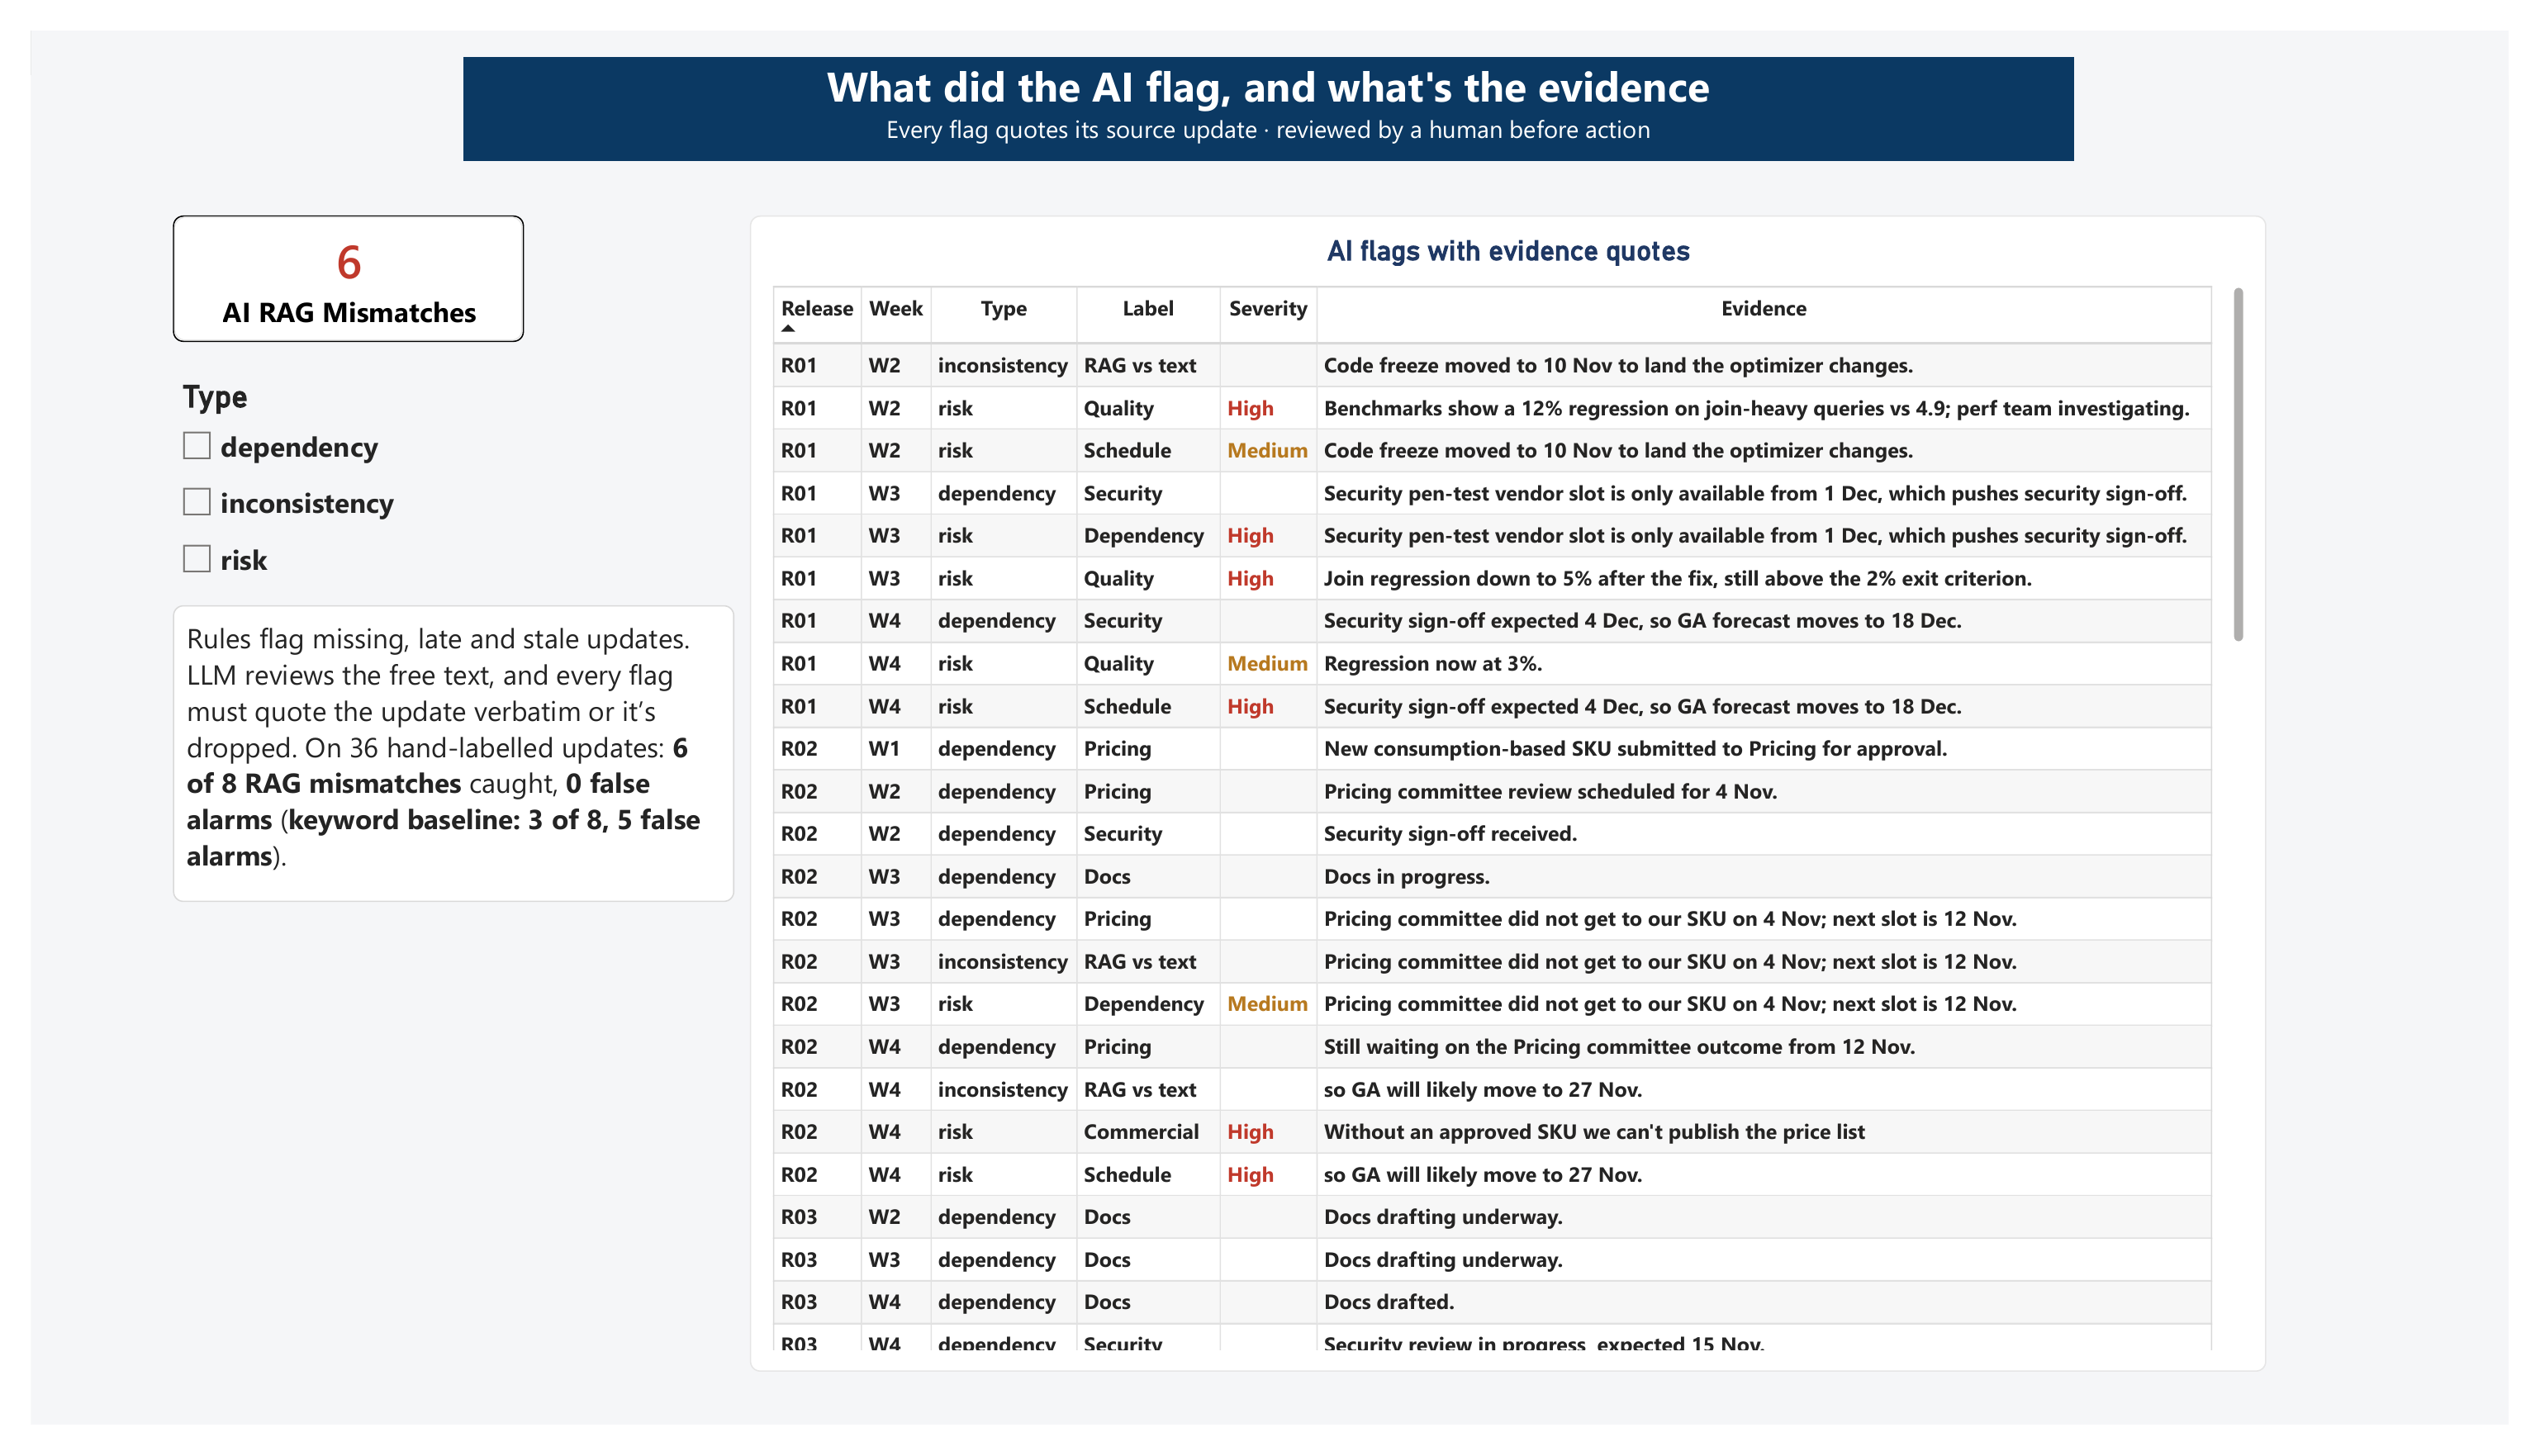

What the dashboard file says about the page in this screenshot:
{"tool":"powerbi","page":{"name":"AI Review and Readiness","canvas":[1920,1080],"ordinal":2},"visuals":[{"type":"tableEx","title":"AI flags with evidence quotes","fields":{"Values":["llm_flag_details.Release","llm_flag_details.Week","llm_flag_details.type","llm_flag_details.label","llm_flag_details.severity","llm_flag_details.evidence"]},"box":[557.4,143,1174.5,895.8],"z":0},{"type":"slicer","fields":{"Values":["llm_flag_details.type"]},"box":[110.4,269.6,195.4,188.2],"z":1000},{"type":"textbox","box":[335,19.9,1248,81.4],"z":2000},{"type":"cardVisual","fields":{"Data":["llm_flags.AI RAG Mismatches"]},"box":[110.4,143,271.4,97.7],"z":3000},{"type":"textbox","box":[110.4,445.2,434.3,229.8],"z":4000}]}

Visuals, with their boxes on the page's 1920x1080 design canvas (x1, y1, x2, y2). These are canvas units, not pixel positions in the 2540x1456 screenshot, which may show the page scaled, cropped or inside an application window:
"AI flags with evidence quotes" tableEx: <bbox>557, 143, 1732, 1039</bbox>
slicer - llm_flag_details.type: <bbox>110, 270, 306, 458</bbox>
textbox: <bbox>335, 20, 1583, 101</bbox>
cardVisual - llm_flags.AI RAG Mismatches: <bbox>110, 143, 382, 241</bbox>
textbox: <bbox>110, 445, 545, 675</bbox>
